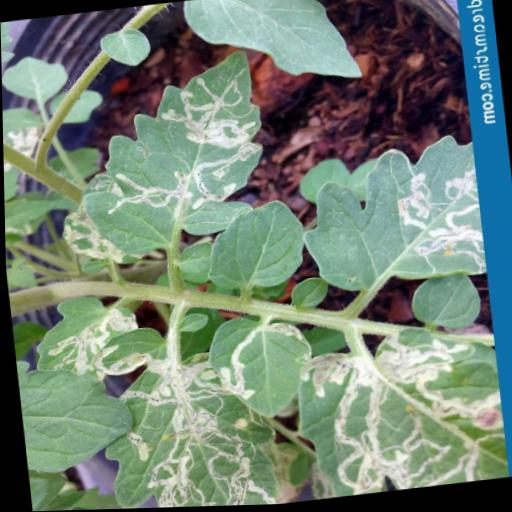Healthy: (181, 0, 365, 99), (198, 197, 310, 296)
Leaf_Miner: (71, 47, 275, 260), (283, 319, 506, 503), (83, 314, 282, 510), (291, 133, 485, 297), (201, 310, 319, 426), (27, 289, 144, 390)
